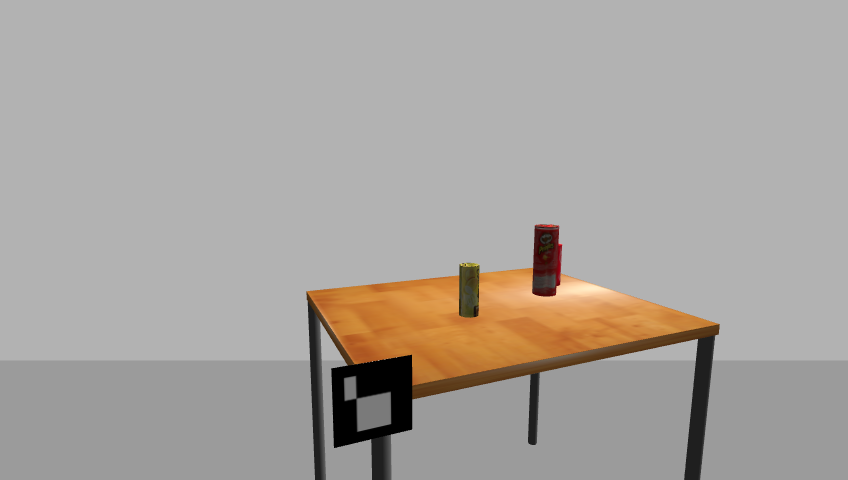aruco marker: (325, 354, 418, 450)
biscuits pack: (457, 262, 481, 319)
coke can: (552, 245, 563, 285)
dinner table: (299, 265, 730, 479)
pringles can: (531, 224, 561, 298)
